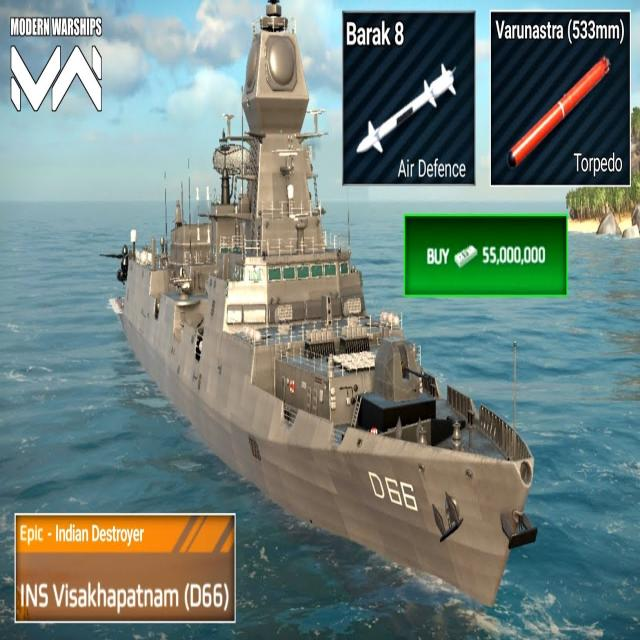Destroyer-Visakhapatnam-Class-IND: (100, 0, 538, 608)
